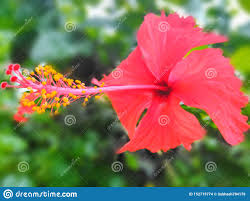hybiscus: (1, 14, 249, 156)
